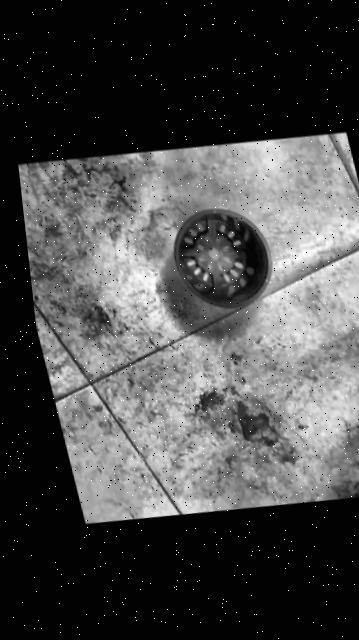pot: (159, 199, 280, 316)
